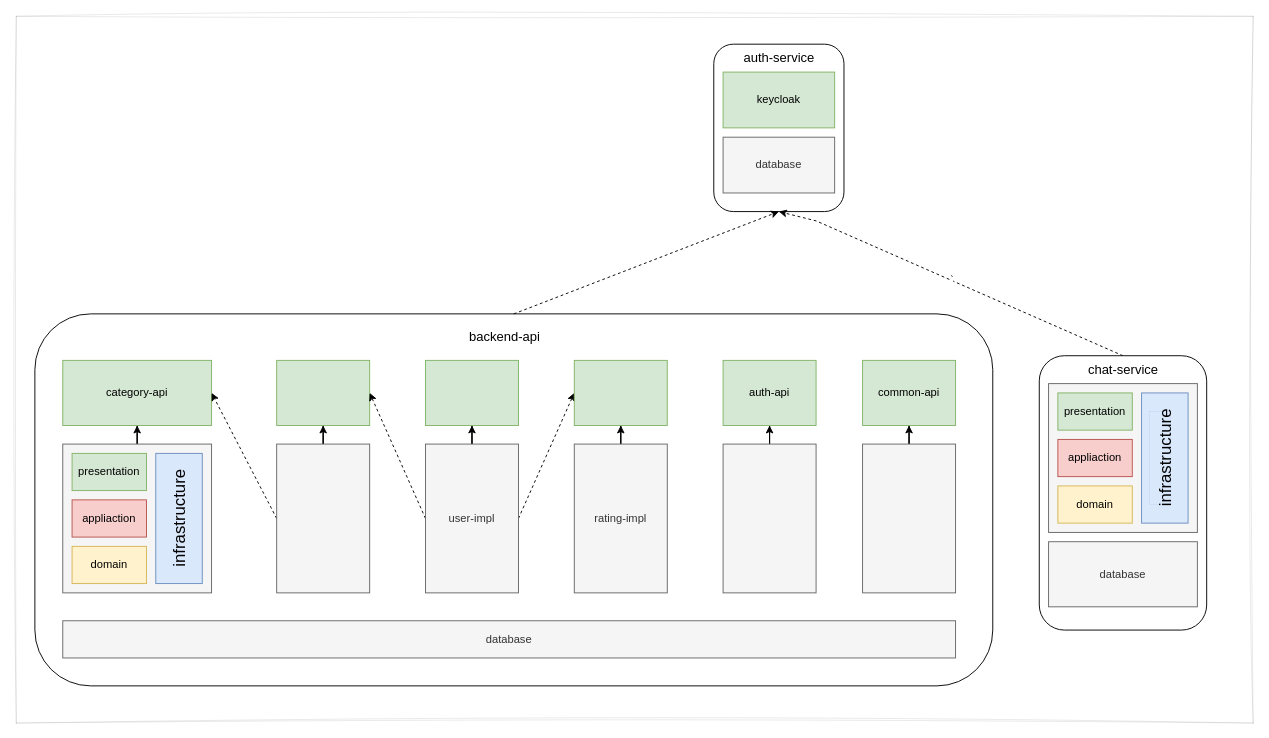
This 1269x738 diagram has some shape labels left out. The box of each missing label's shape, as (x1, y1, x2, y2) in pixels:
auth-impl: (722, 443, 816, 593)
common-impl: (862, 443, 956, 593)
offer-api: (276, 359, 370, 425)
offer-impl: (276, 443, 370, 593)
rating-api: (573, 359, 667, 425)
user-api: (425, 359, 518, 425)
